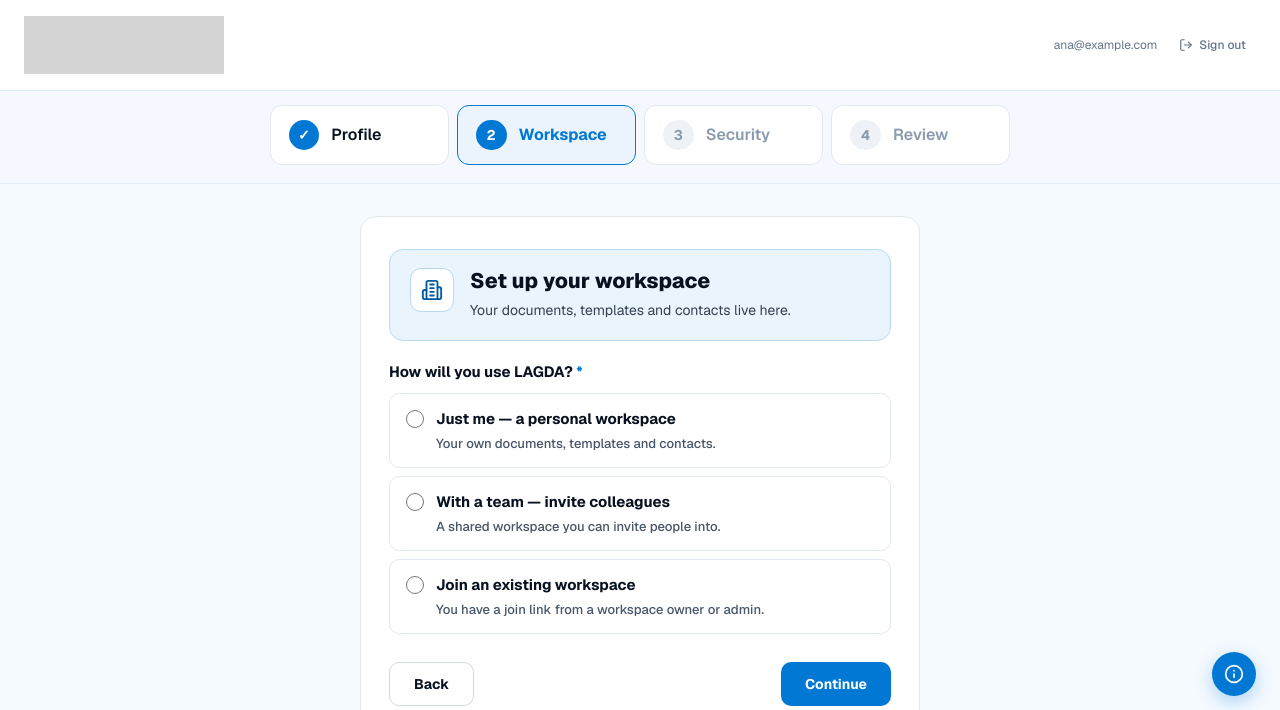
it: Workspace step › creates and emails the queued team join links once the workspace exists
The image size is (1280, 710).
Step 1. Click the radio button labelled "With a team" → [415, 502], box [406, 493, 424, 511]
(page scrolled)
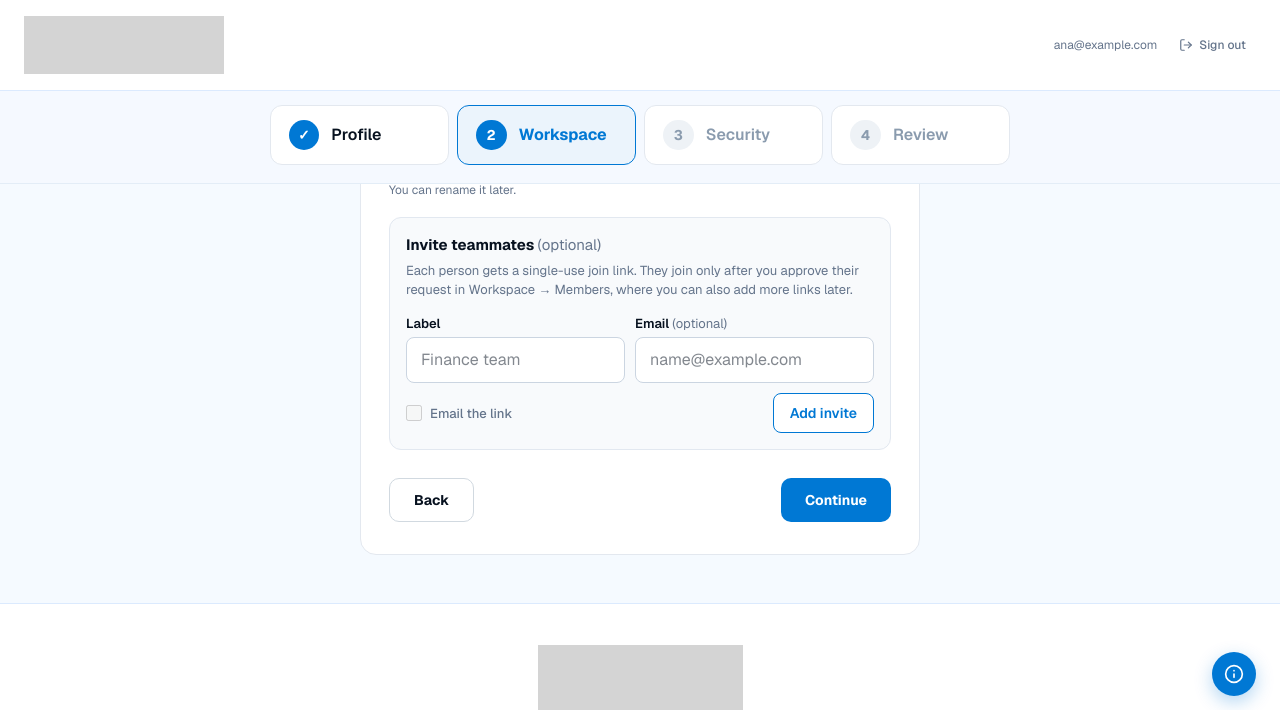
Step 2. Type "Finance" into the field labelled "Label" → [516, 360], box [406, 337, 625, 383]
Step 3. Type "fin@example.com" into the field labelled "Email (optional)" → [754, 360], box [635, 337, 874, 383]
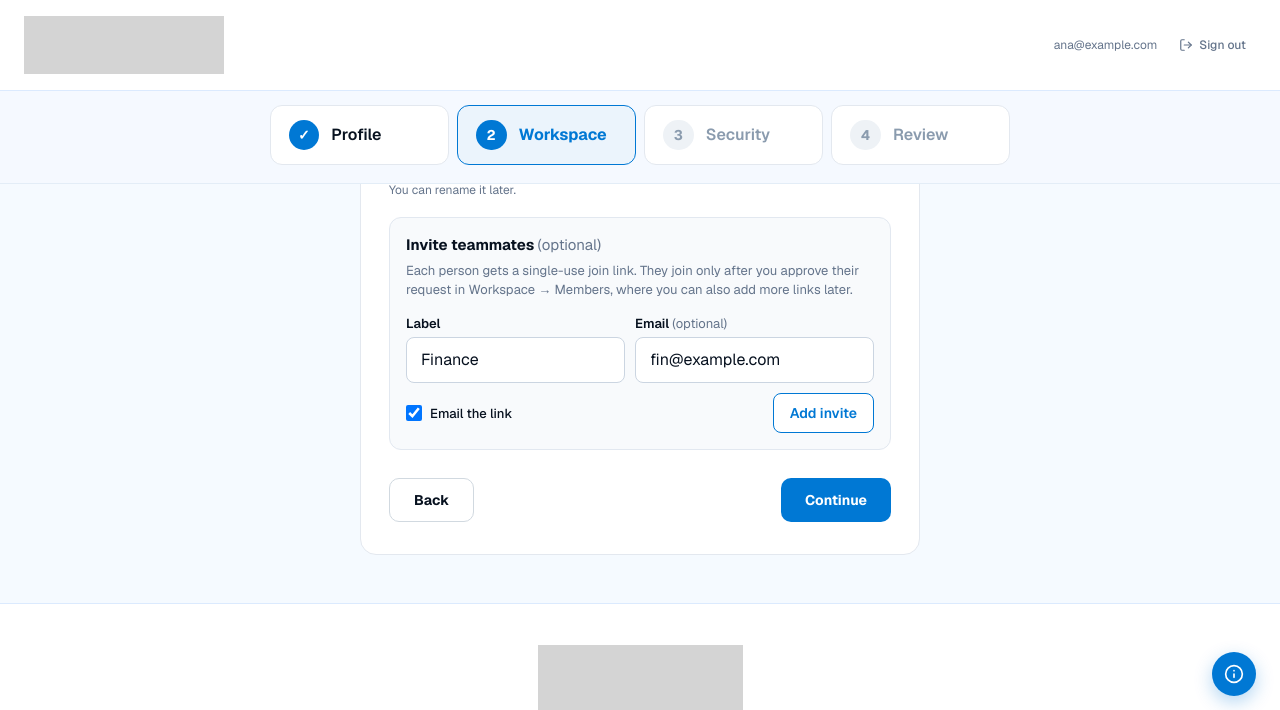
Step 4. Click the button "Add invite" → [823, 413], box [773, 393, 874, 433]
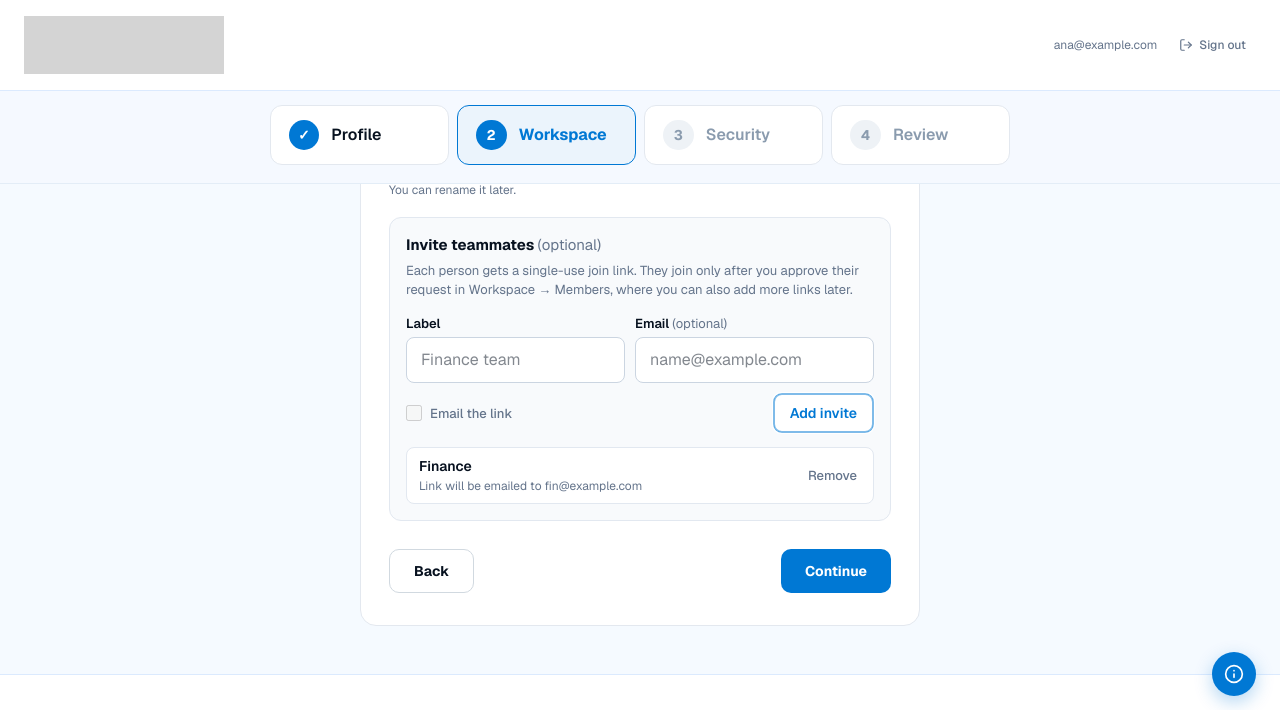
Step 5. Type "Reception" into the field labelled "Label" → [516, 360], box [406, 337, 625, 383]
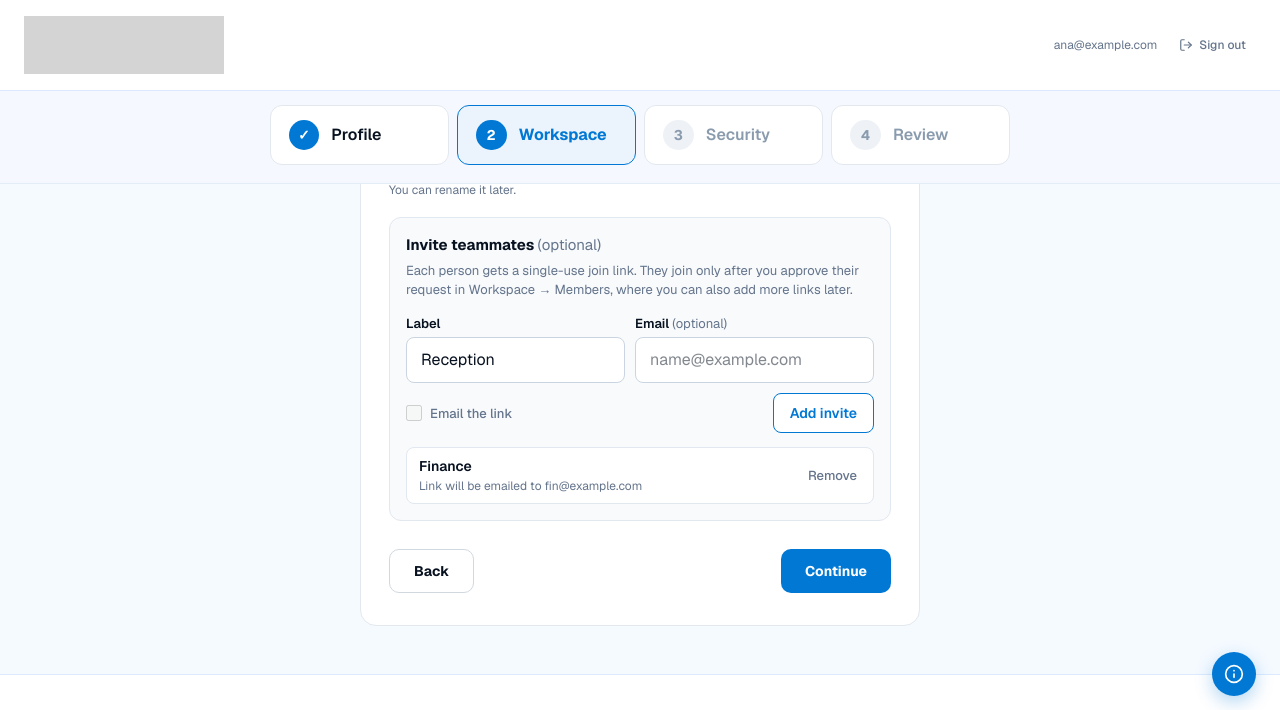
Step 6. Click the button "Add invite" → [823, 413], box [773, 393, 874, 433]
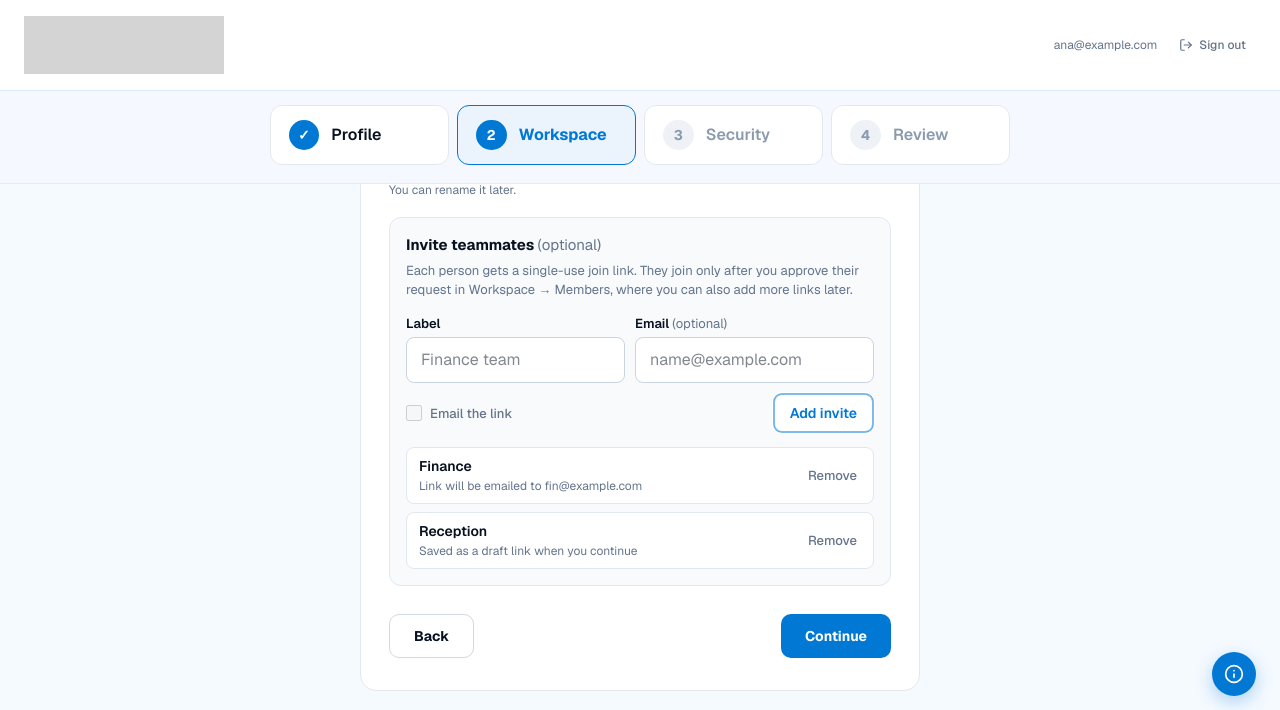
Expected: the text "Link will be emailed to fin@example.com" is shown, [419, 478, 642, 494]
Step 7. Click the button "Continue" → [836, 636], box [781, 614, 891, 658]
(page scrolled)
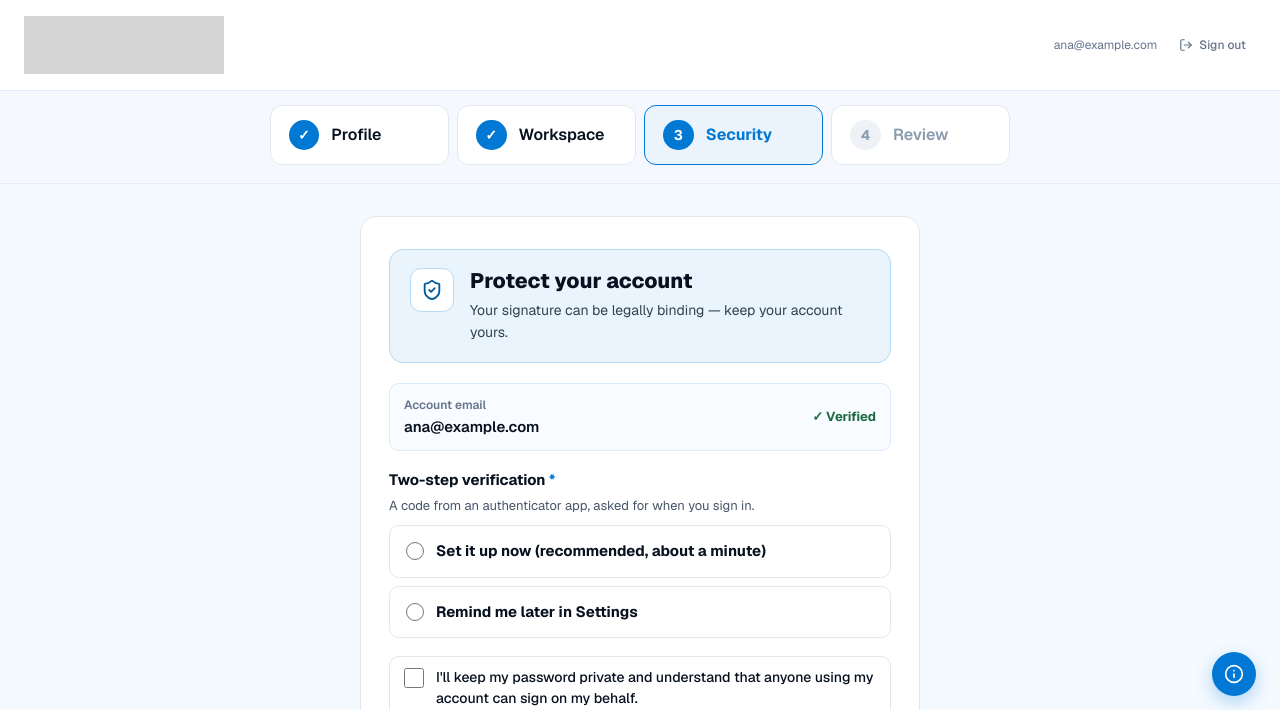
Expected: the heading "Protect your account" is shown, [470, 268, 692, 294]
